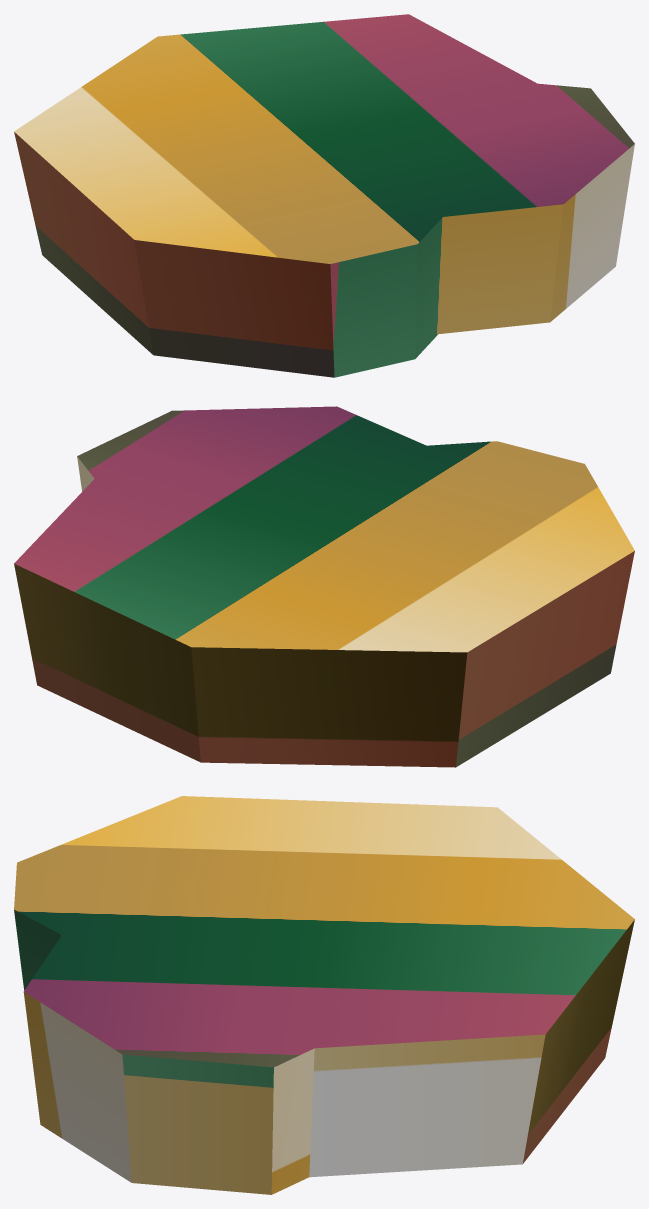
The model's file is platform2.fbx.
3 renders of one model, top to bottom at view 1: azimuth 30°, elevation 25°; view 2: azimuth 150°, elevation 25°; view 3: azimuth 270°, elevation 25°, orthographic. The views are drawn at different scales.
Parts seen in each view (by area): view 1: Desert_Rock_01_Small_0_1; view 2: Desert_Rock_01_Small_0_1; view 3: Desert_Rock_01_Small_0_1.
Boxes of the visible parts, x1,y1,x2,y2 form: Desert_Rock_01_Small_0_1: (14,14,634,377); Desert_Rock_01_Small_0_1: (14,406,634,767); Desert_Rock_01_Small_0_1: (14,796,634,1194).
Bounding box in the file's own units: 6.51 × 1.53 × 6.29.
